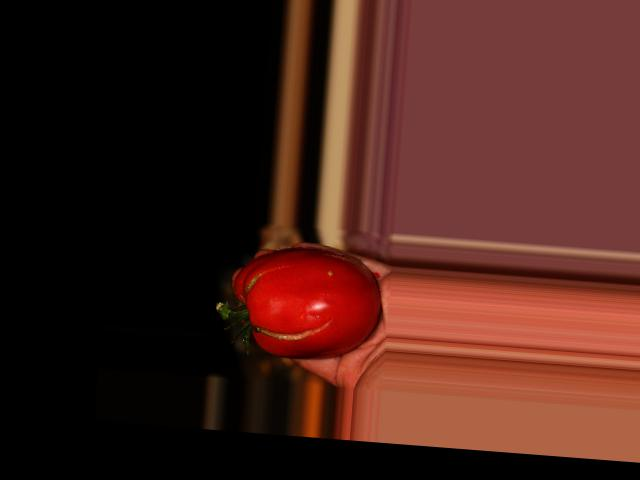tomato: (227, 241, 385, 363)
